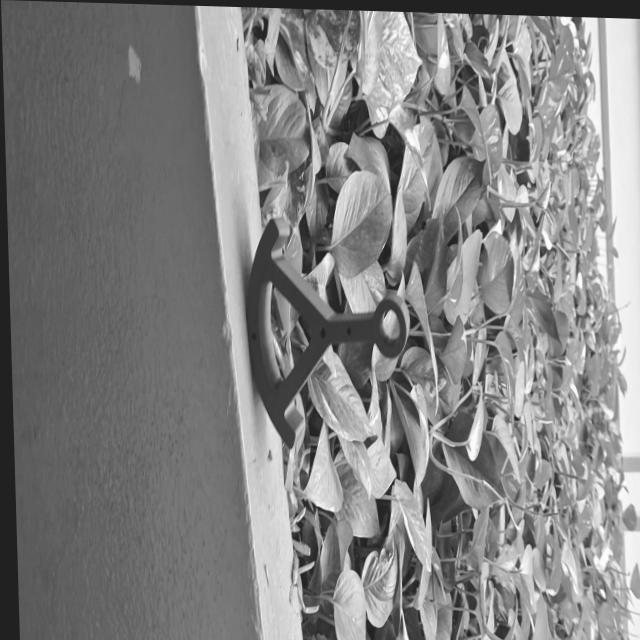haptic: (241, 215, 414, 454)
